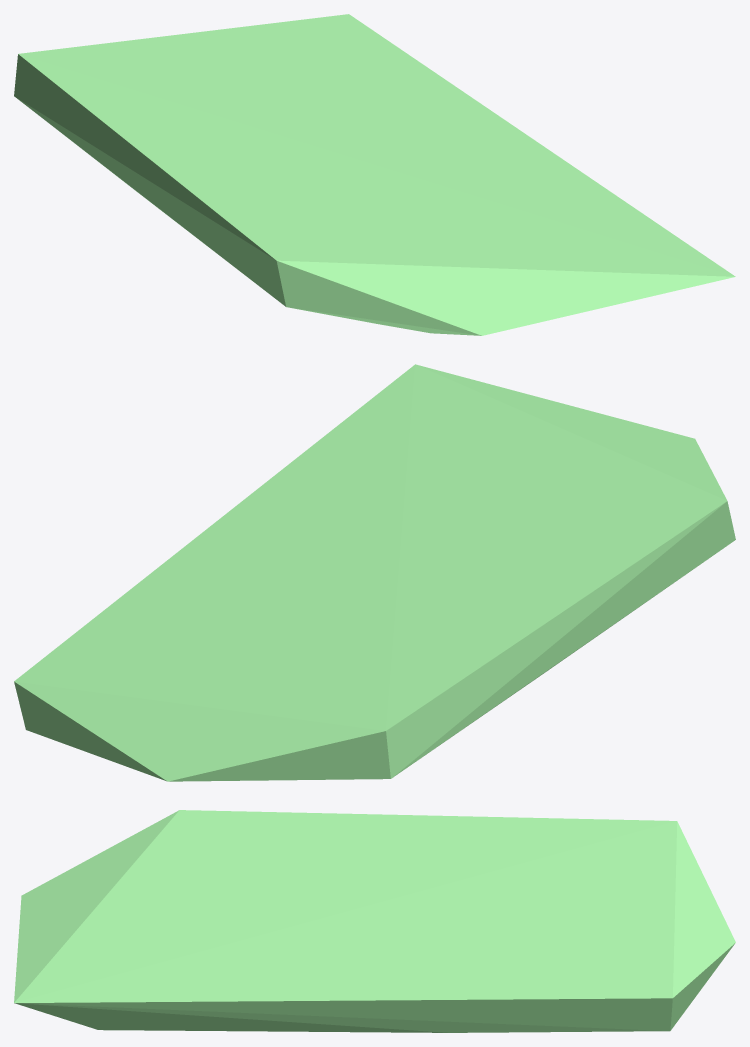
Rendered from UMIRobot_UMIRobot_link_3_convex_coll_6.dae.
3 views of the same model, one above another, from view 1: azimuth 30°, elevation 25°; view 2: azimuth 150°, elevation 25°; view 3: azimuth 270°, elevation 25° (orthographic). The views are drawn at different scales.
Parts seen in each view (by area): view 1: node; view 2: node; view 3: node.
Part boxes in pixels (x1=…): node: x1=14, y1=14, x2=735, y2=335; node: x1=14, y1=364, x2=735, y2=781; node: x1=14, y1=810, x2=735, y2=1032.
Bounding box in the file's own units: 0.0191 × 0.00487 × 0.0366.
